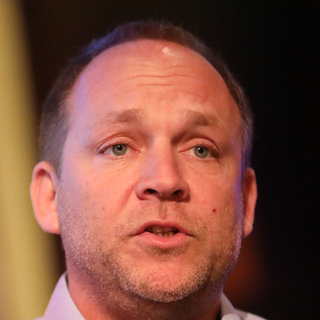eye: (85, 133, 148, 163), (175, 138, 224, 169)
